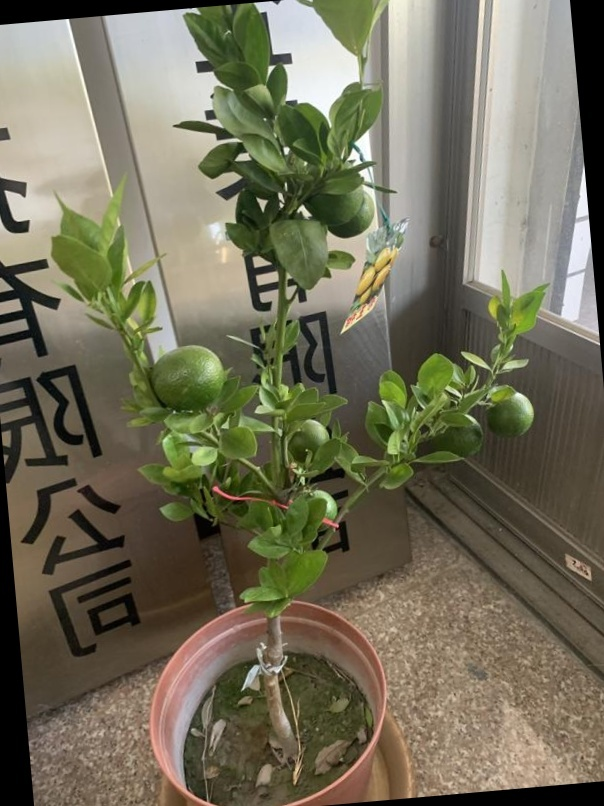Tangerine: (151, 344, 225, 412), (490, 387, 536, 442)
